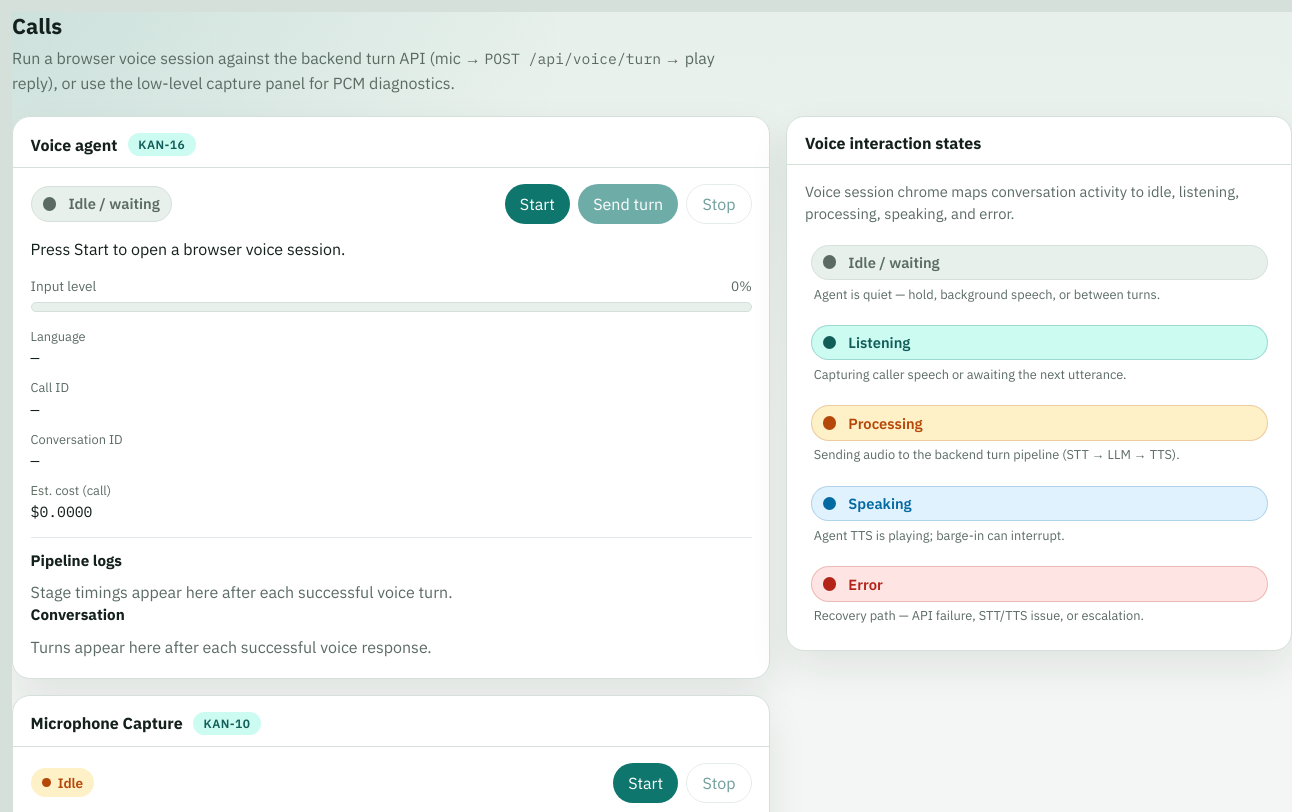
Scenario: VoiceAgentPanel (KAN-16) › TC-004 shows text reply and notice when ttsError is present
Click the button with test id "voice-start" at [537, 204], box [505,184,570,224]
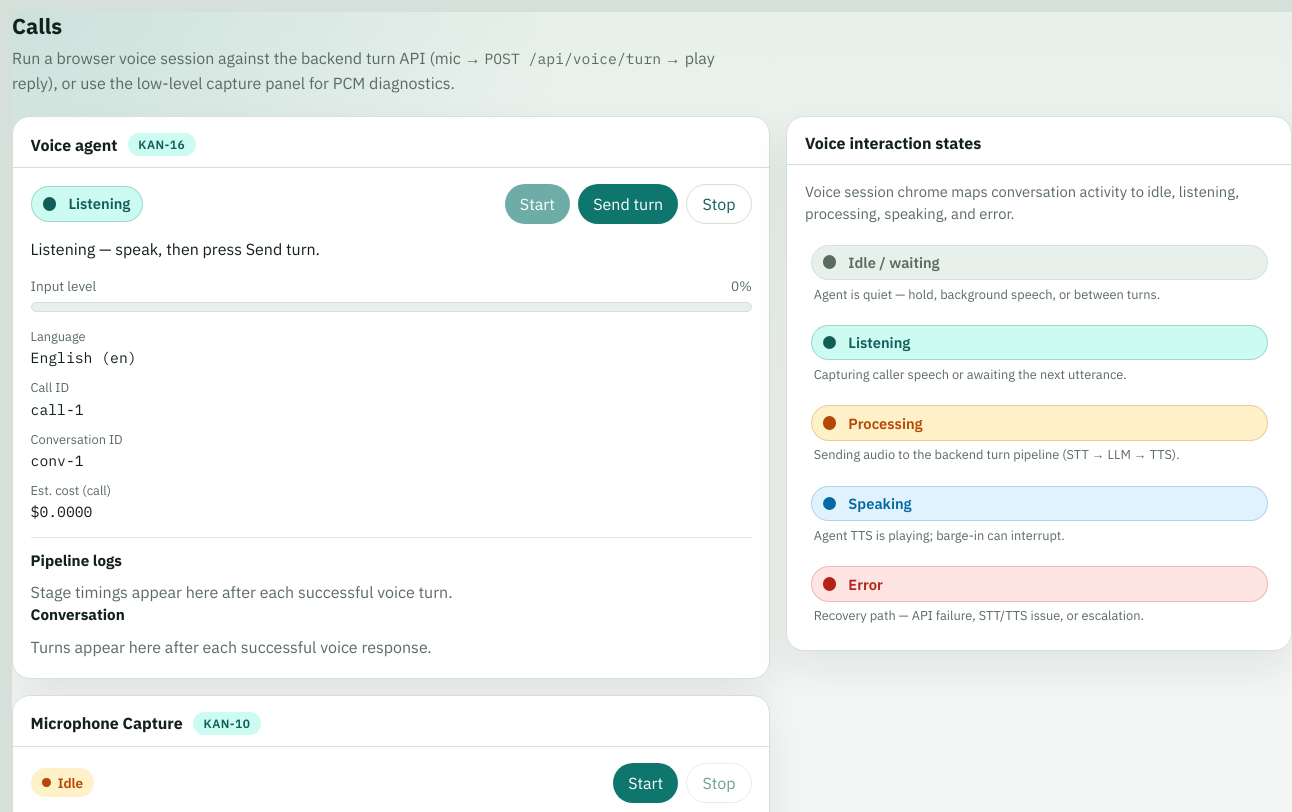
Check: the button with test id "voice-send-turn" is enabled
Click the button with test id "voice-send-turn" at [628, 204], box [578,184,678,224]
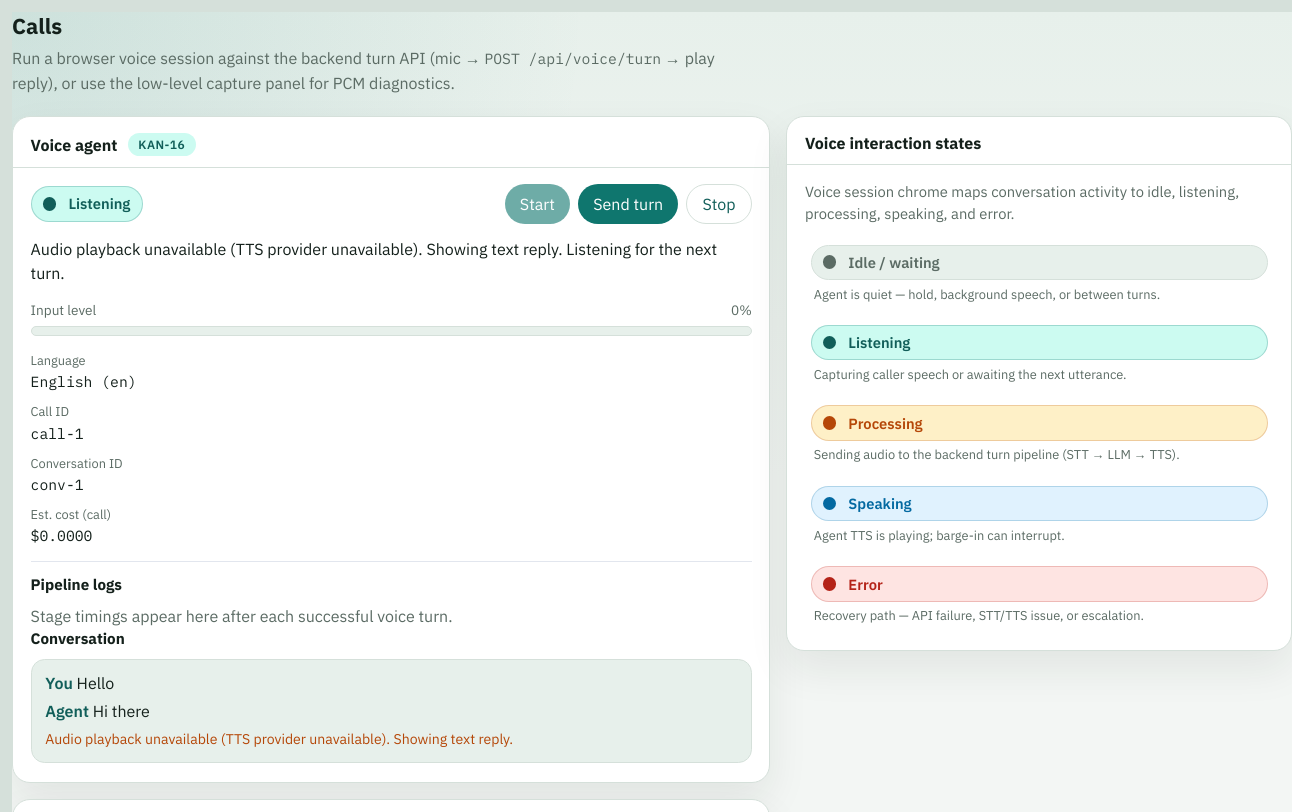
Check: the text with test id "voice-turn-reply" reads "Hi there", box [93,702,150,722]
Check: the text with test id "voice-tts-notice" shows "Audio playback unavailable", box [45,730,513,748]
